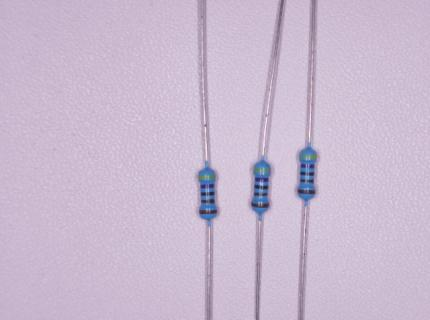Black band: (201, 192, 214, 196), (255, 185, 268, 189), (301, 172, 314, 176)
Brown band: (298, 190, 316, 195), (252, 203, 270, 208), (200, 210, 217, 214), (301, 179, 314, 184), (201, 199, 215, 203), (255, 193, 268, 196)
Violet band: (200, 183, 214, 188), (301, 164, 315, 169), (254, 178, 269, 182)
Yellow band: (299, 154, 317, 159), (198, 175, 215, 179), (254, 168, 271, 172)
